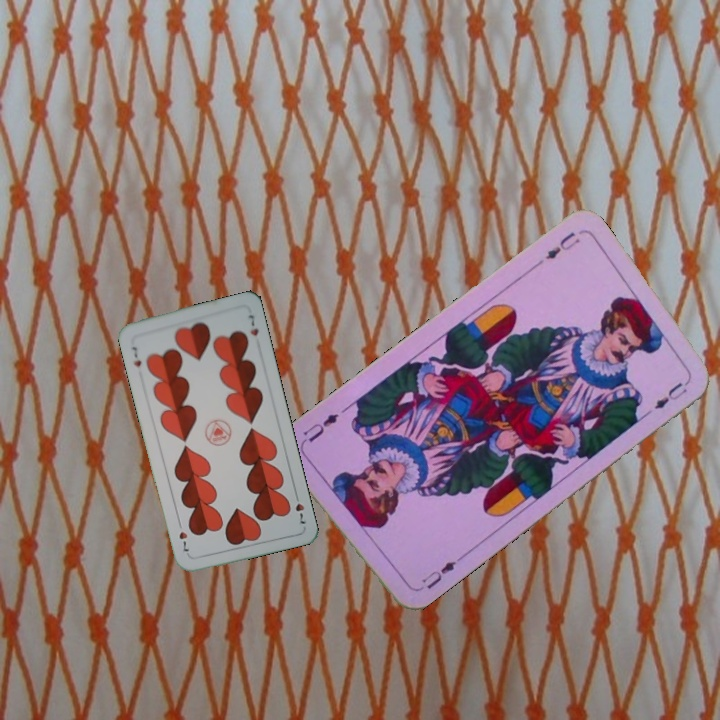EU: (412, 553, 462, 595), (542, 228, 582, 262)
H7: (290, 489, 309, 528), (128, 342, 144, 369)
